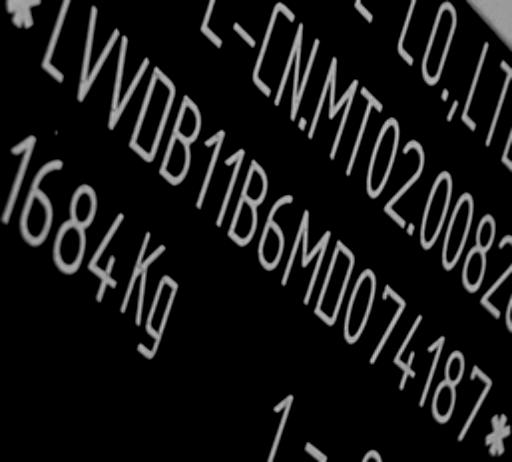letter: (70, 5, 120, 106), (280, 210, 334, 300), (102, 33, 150, 130), (128, 65, 176, 160), (156, 95, 202, 186), (228, 159, 270, 247), (314, 237, 356, 322), (366, 283, 408, 366), (186, 125, 228, 206), (37, 0, 77, 85), (208, 145, 248, 226), (254, 193, 294, 267), (456, 361, 494, 438), (340, 267, 378, 340), (414, 331, 450, 408), (390, 313, 424, 388), (432, 349, 466, 422)
